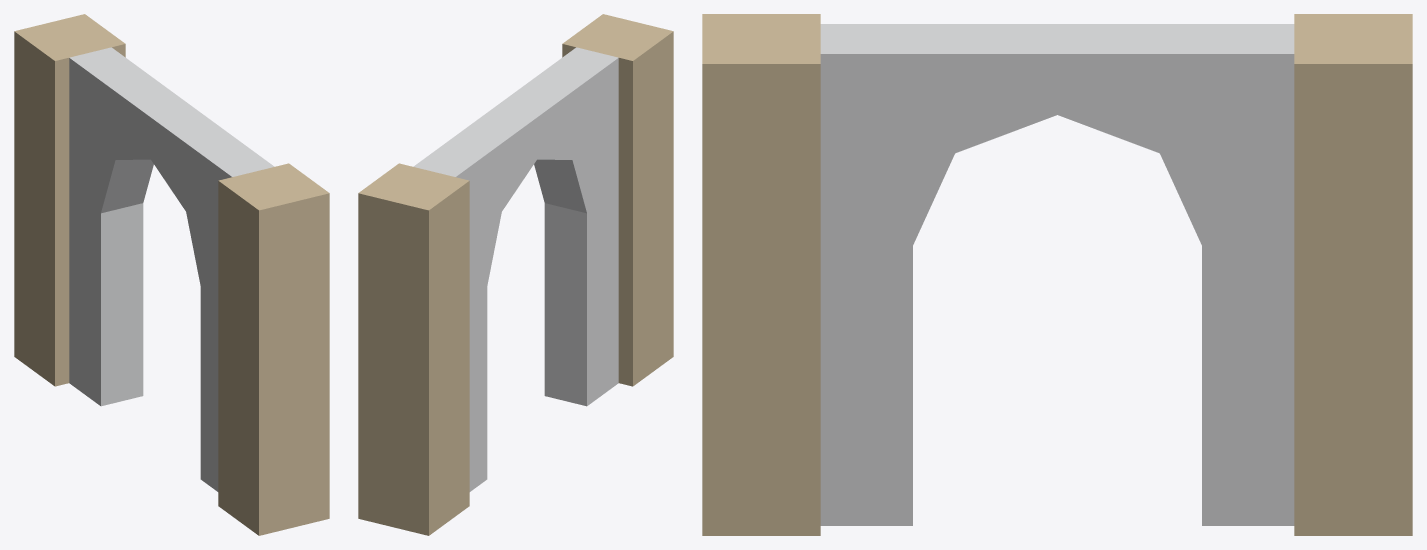
The model's file is Wood_Door_Round_01.glb.
3 views of the same model, side by side, from view 1: azimuth 30°, elevation 25°; view 2: azimuth 150°, elevation 25°; view 3: azimuth 270°, elevation 25° (orthographic). The views are drawn at different scales.
Parts seen in each view (by area): view 1: Mesh1 Wood_Door_Round Model; view 2: Mesh1 Wood_Door_Round Model; view 3: Mesh1 Wood_Door_Round Model.
Part boxes in pixels (<box>): Mesh1 Wood_Door_Round Model: <box>14,14,329,535</box>; Mesh1 Wood_Door_Round Model: <box>358,14,673,535</box>; Mesh1 Wood_Door_Round Model: <box>702,14,1412,535</box>.
Bounding box in the file's own units: 0.5 × 2.2 × 3.
